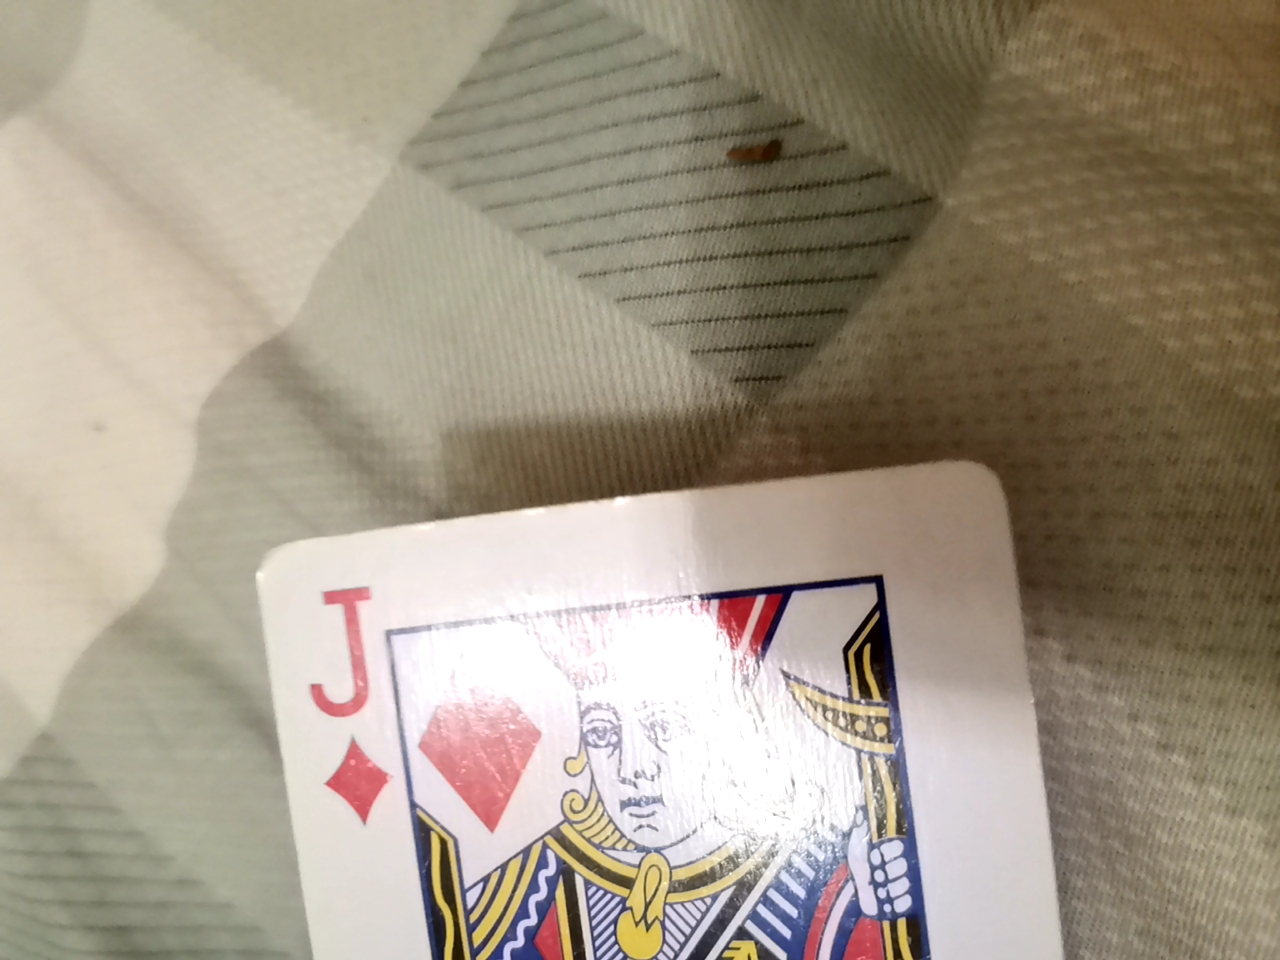fk j: (249, 479, 1132, 951)
